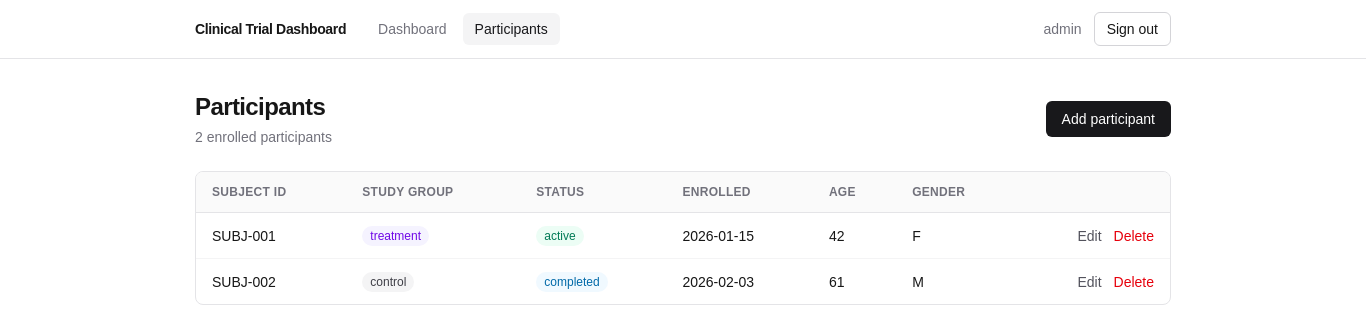
Test: participant deletion › shows the backend error inline when deletion fails
Click the button with aria-label "Delete SUBJ-001" at (1134, 236), box [1114, 226, 1154, 246]
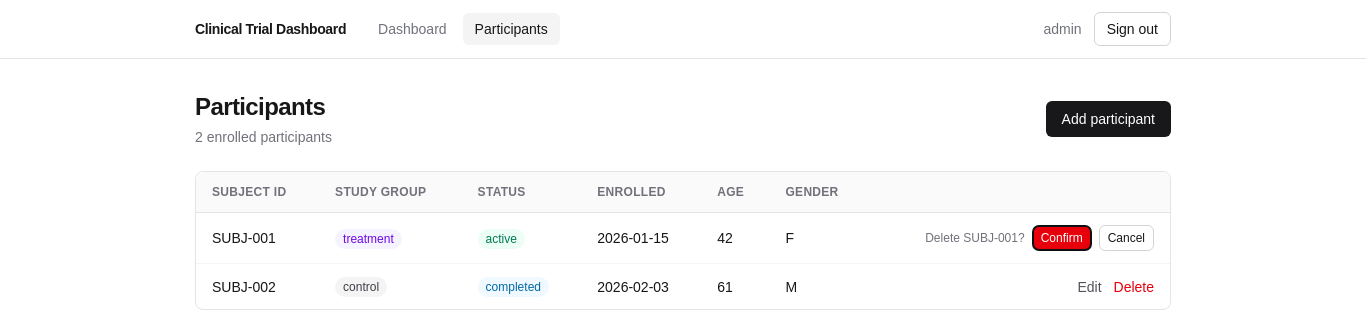
Click the button "Confirm" at (1062, 238), box [1033, 226, 1091, 250]
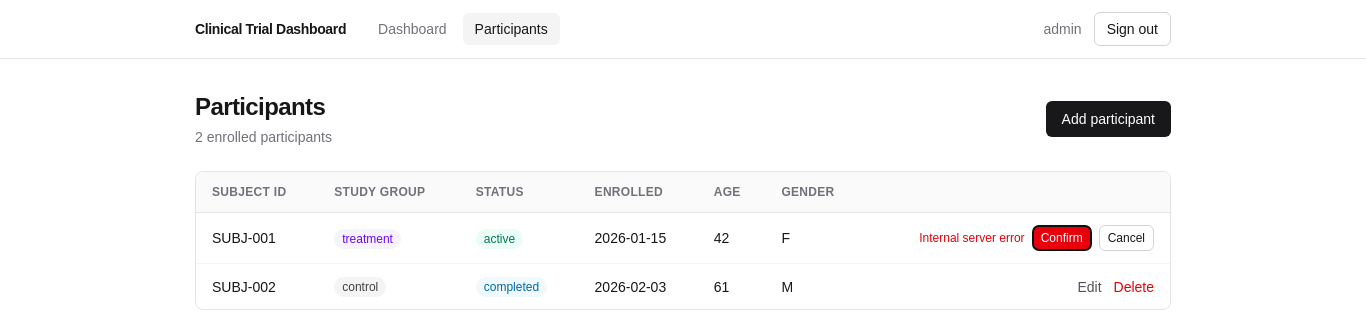
Check: the text "SUBJ-001" is shown, box [196, 212, 318, 264]
Check: the message reads "Internal server error", box [919, 231, 1025, 245]
